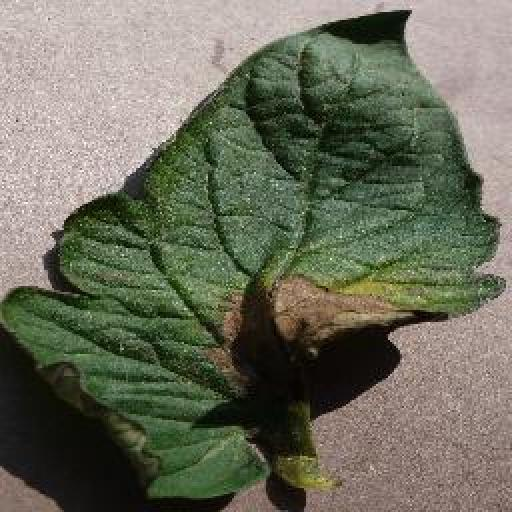Late Blight: (0, 5, 511, 504)
